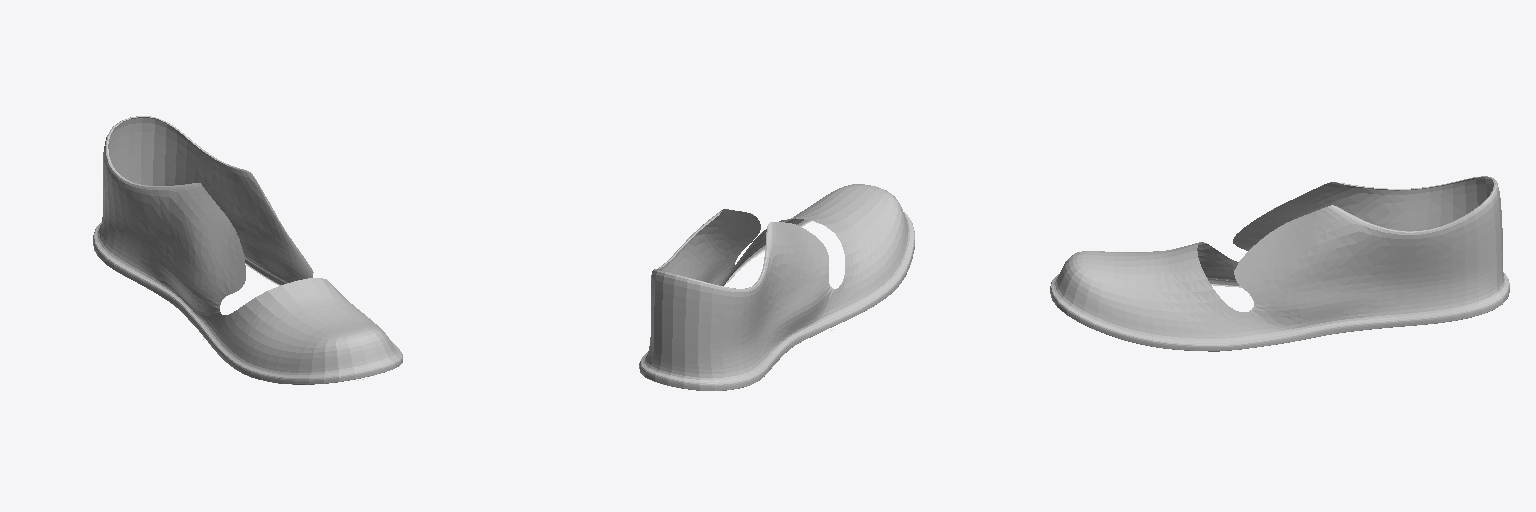
The model's file is body.obj.
3 renders of one model, left to right at view 1: azimuth 30°, elevation 25°; view 2: azimuth 150°, elevation 25°; view 3: azimuth 270°, elevation 25°, orthographic.
Parts seen in each view (by area): view 1: body_Body.004; view 2: body_Body.004; view 3: body_Body.004.
Part boxes in pixels (x1,y1,x2,y2): body_Body.004: (93, 116, 402, 384); body_Body.004: (639, 184, 914, 390); body_Body.004: (1050, 176, 1509, 351).
Size of the model in its own units: 2.7 by 2.32 by 7.58.